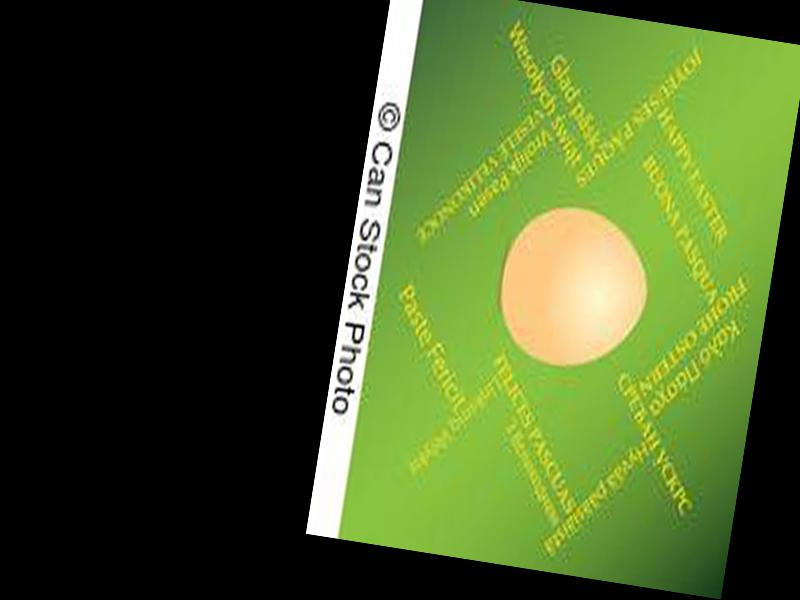Eggs: (491, 198, 658, 374)
